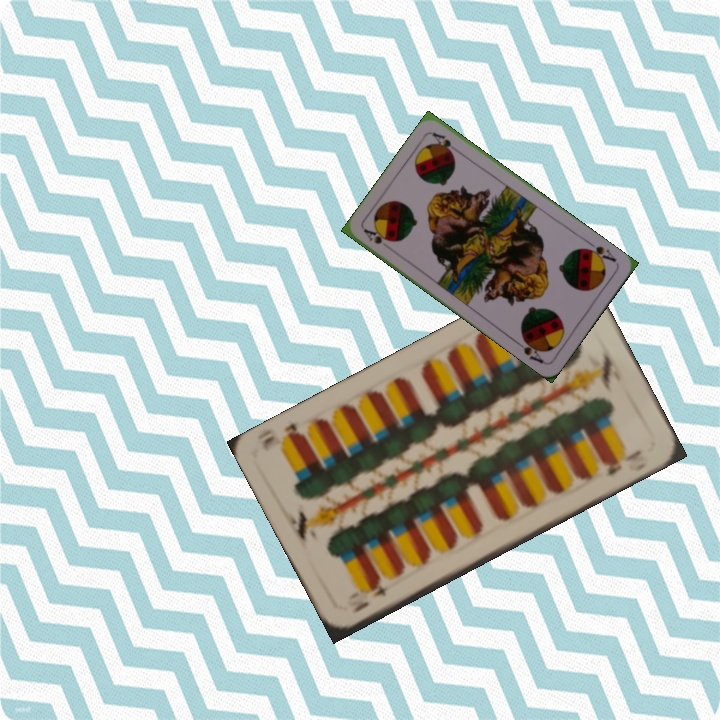E10: (348, 577, 398, 617)
SA: (580, 237, 619, 266), (360, 224, 394, 247)
